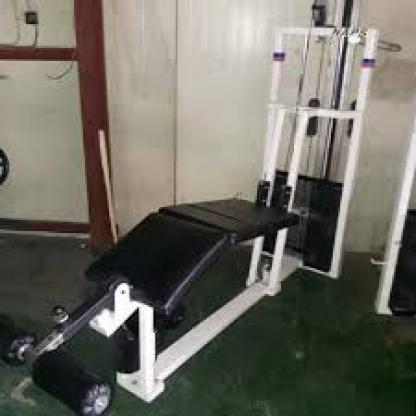reg curl machine: (2, 9, 392, 416)
